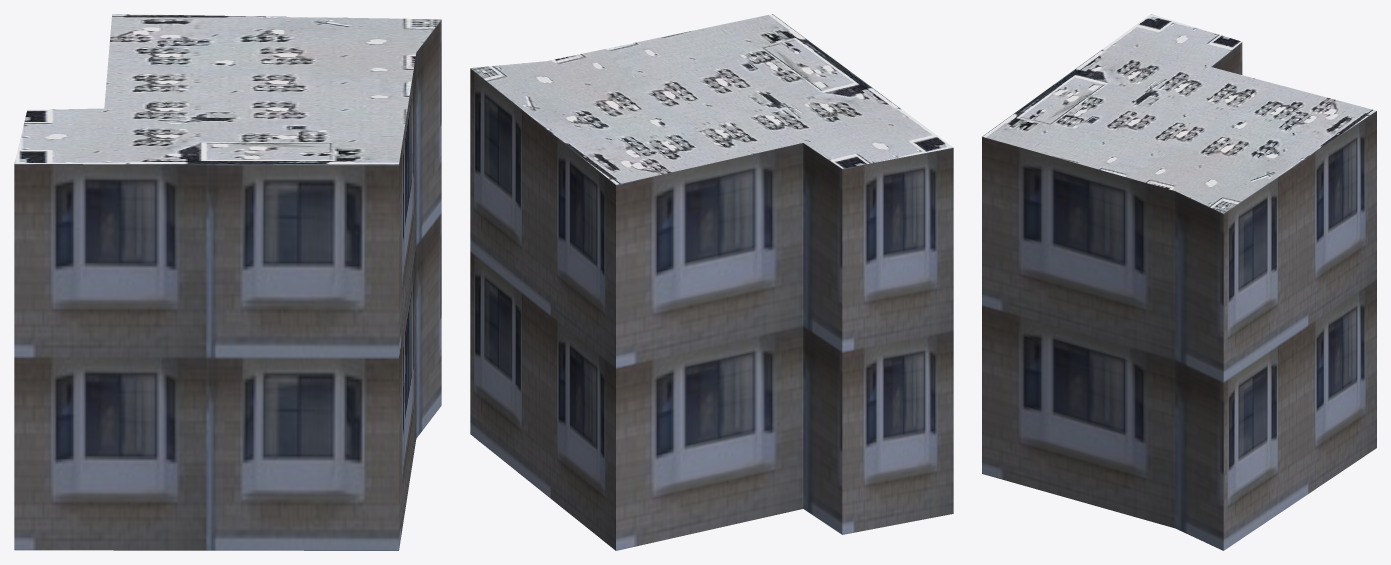
File: ResTex__2731.fbx
3 views of the same model, side by side, from view 1: azimuth 30°, elevation 25°; view 2: azimuth 150°, elevation 25°; view 3: azimuth 270°, elevation 25° (orthographic). The views are drawn at different scales.
Parts seen in each view (by area): view 1: CityEngineMaterial_3_m, CityEngineMaterial_4_m; view 2: CityEngineMaterial_3_m, CityEngineMaterial_4_m; view 3: CityEngineMaterial_3_m, CityEngineMaterial_4_m.
Boxes of the visible parts, x1=… form: CityEngineMaterial_3_m: x1=14, y1=20, x2=441, y2=550; CityEngineMaterial_4_m: x1=14, y1=14, x2=441, y2=164; CityEngineMaterial_3_m: x1=470, y1=68, x2=953, y2=550; CityEngineMaterial_4_m: x1=470, y1=14, x2=953, y2=184; CityEngineMaterial_3_m: x1=982, y1=42, x2=1376, y2=550; CityEngineMaterial_4_m: x1=982, y1=14, x2=1376, y2=213.
Size of the model in its own units: 7.62 by 6 by 6.37.
2 materials, 2 textured.
